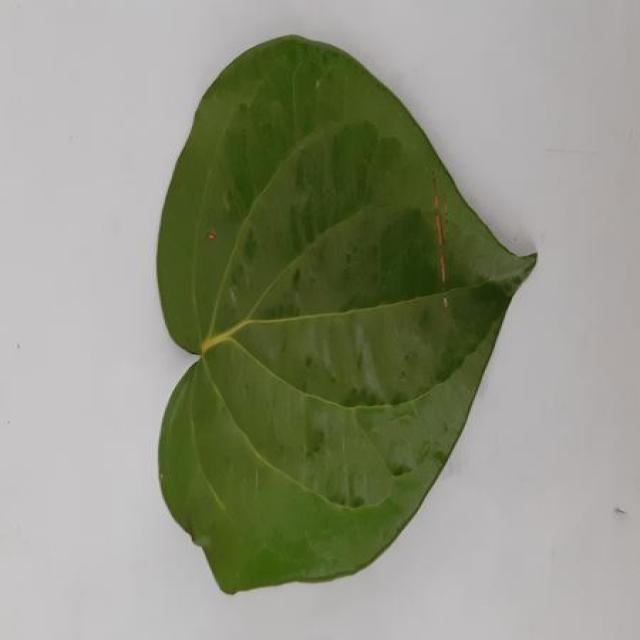defected betel: (158, 36, 537, 592)
